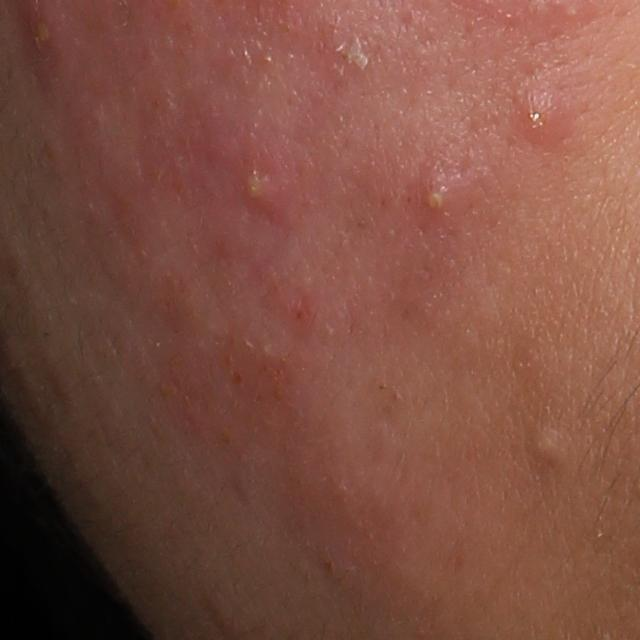comedo: (522, 423, 573, 478)
pustule: (226, 132, 308, 229), (405, 163, 478, 236), (506, 81, 573, 151)
